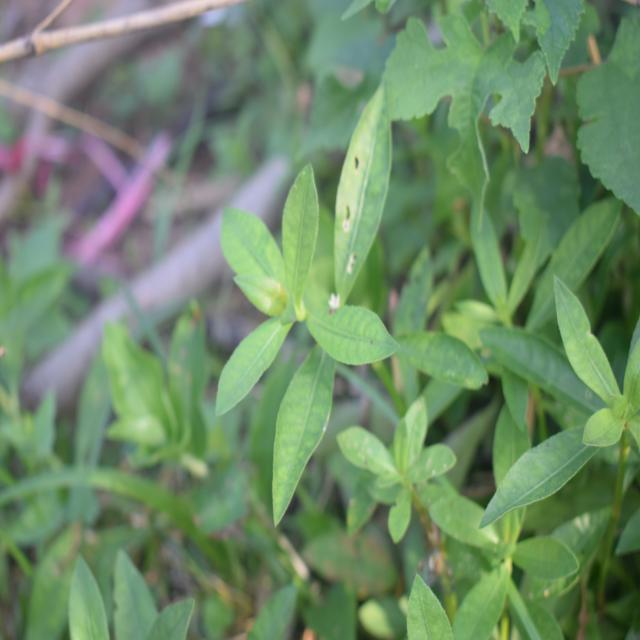Alligatorweed: (201, 151, 427, 464), (499, 207, 640, 582)
